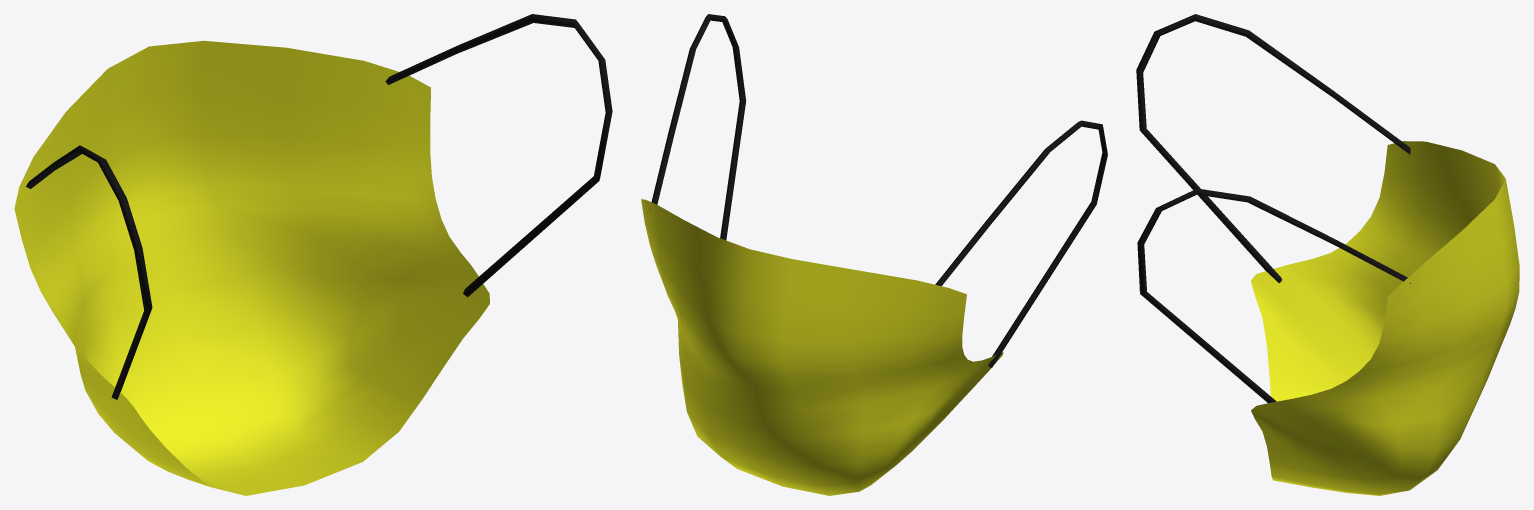
3 renders of one model, left to right at view 1: azimuth 30°, elevation 25°; view 2: azimuth 150°, elevation 25°; view 3: azimuth 270°, elevation 25°, orthographic. The views are drawn at different scales.
Parts seen in each view (by area): view 1: MedicalMask1:medmask, MedicalMask1:cord1, MedicalMask1:cord; view 2: MedicalMask1:medmask, MedicalMask1:cord, MedicalMask1:cord1; view 3: MedicalMask1:medmask, MedicalMask1:cord, MedicalMask1:cord1.
Boxes of the visible parts, box(x1,y1,x2,y2) form: MedicalMask1:medmask: box(14, 40, 489, 495); MedicalMask1:cord1: box(385, 14, 612, 297); MedicalMask1:cord: box(26, 145, 152, 399); MedicalMask1:medmask: box(641, 199, 1003, 495); MedicalMask1:cord: box(935, 120, 1107, 367); MedicalMask1:cord1: box(649, 14, 745, 240); MedicalMask1:medmask: box(1251, 141, 1519, 495); MedicalMask1:cord: box(1136, 14, 1410, 283); MedicalMask1:cord1: box(1137, 188, 1410, 403).
Size of the model in its own units: 26.26 by 23.81 by 21.66.
